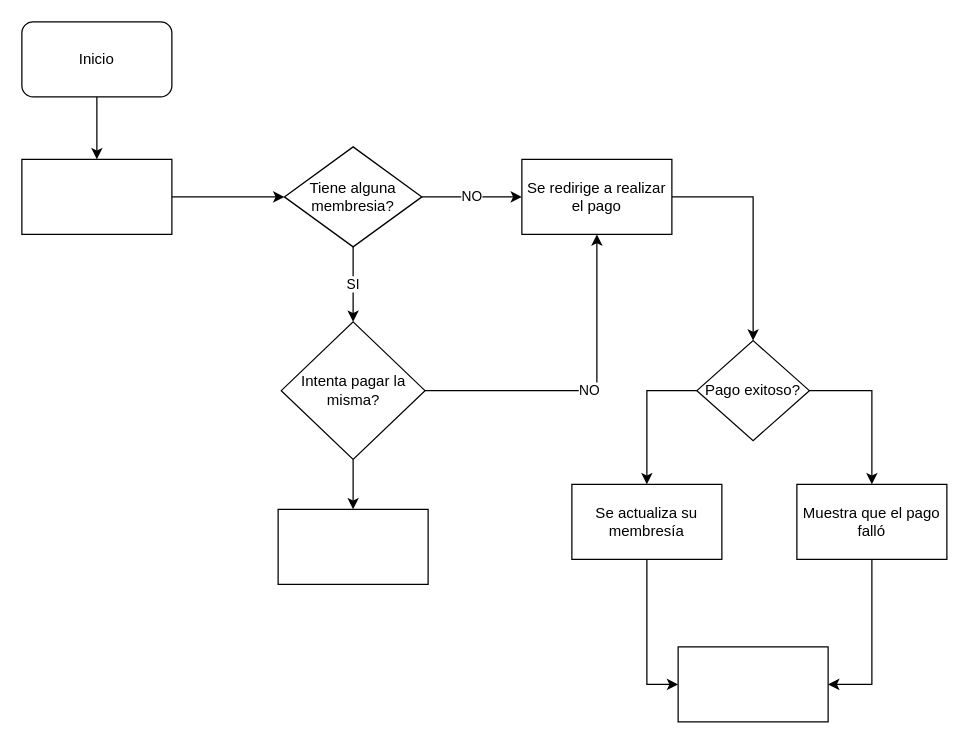
The diagram is 969 pixels wide and 744 high, and some of its shapes have lost their labels. The centre of each missing label's shape, as x and y in pixels:
Adquirir membresia: [96,196]
Redirige a la tienda: [752,684]
Se ofrece revocar membresia: [352,546]
